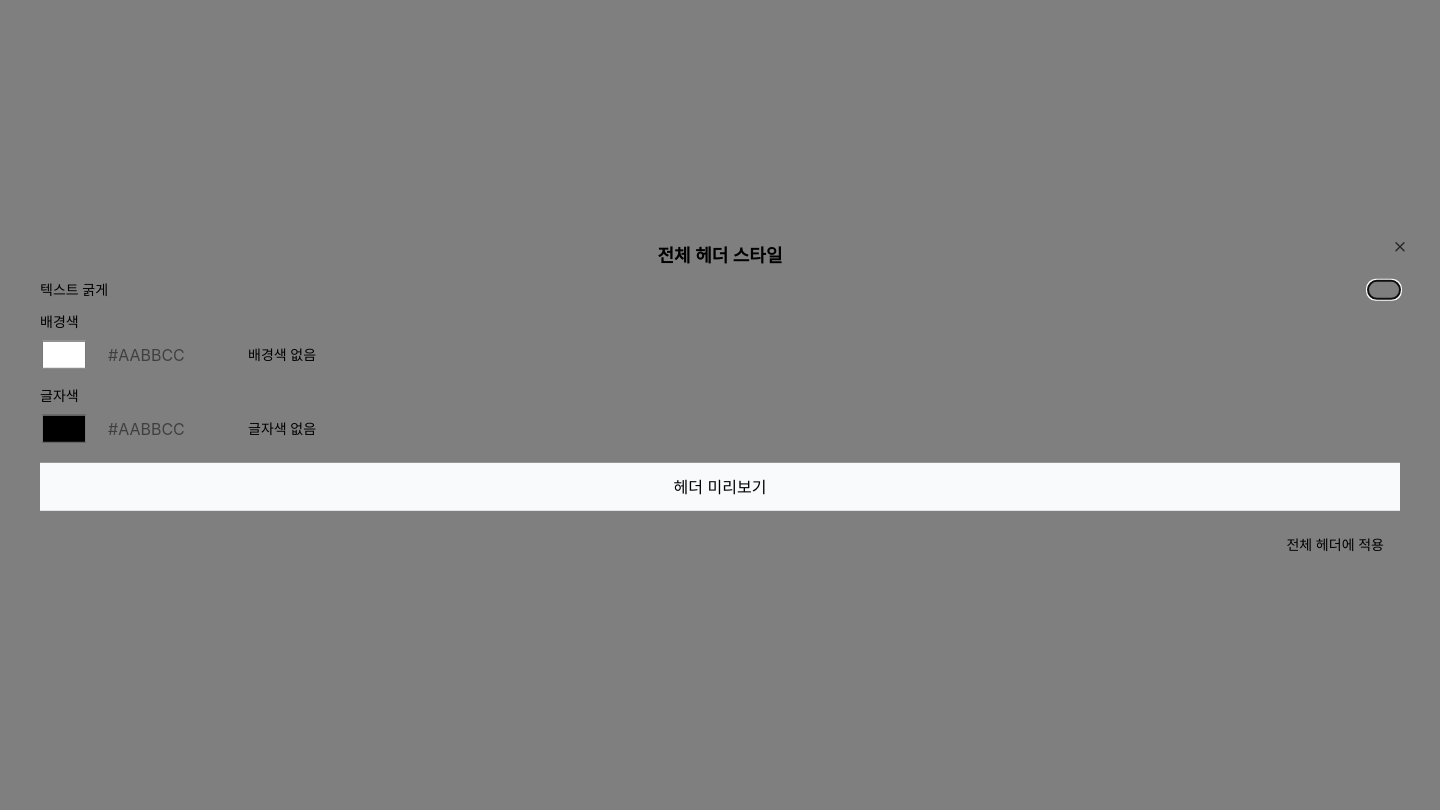
Scenario: HeaderBulkStyleDialog 확인 단계 › 확인에서 취소를 누르면 적용하지 않고 다시 적용 버튼으로 돌아간다
Click the button "전체 헤더에 적용". click: (1335, 545)
box: [1270,527,1400,563]
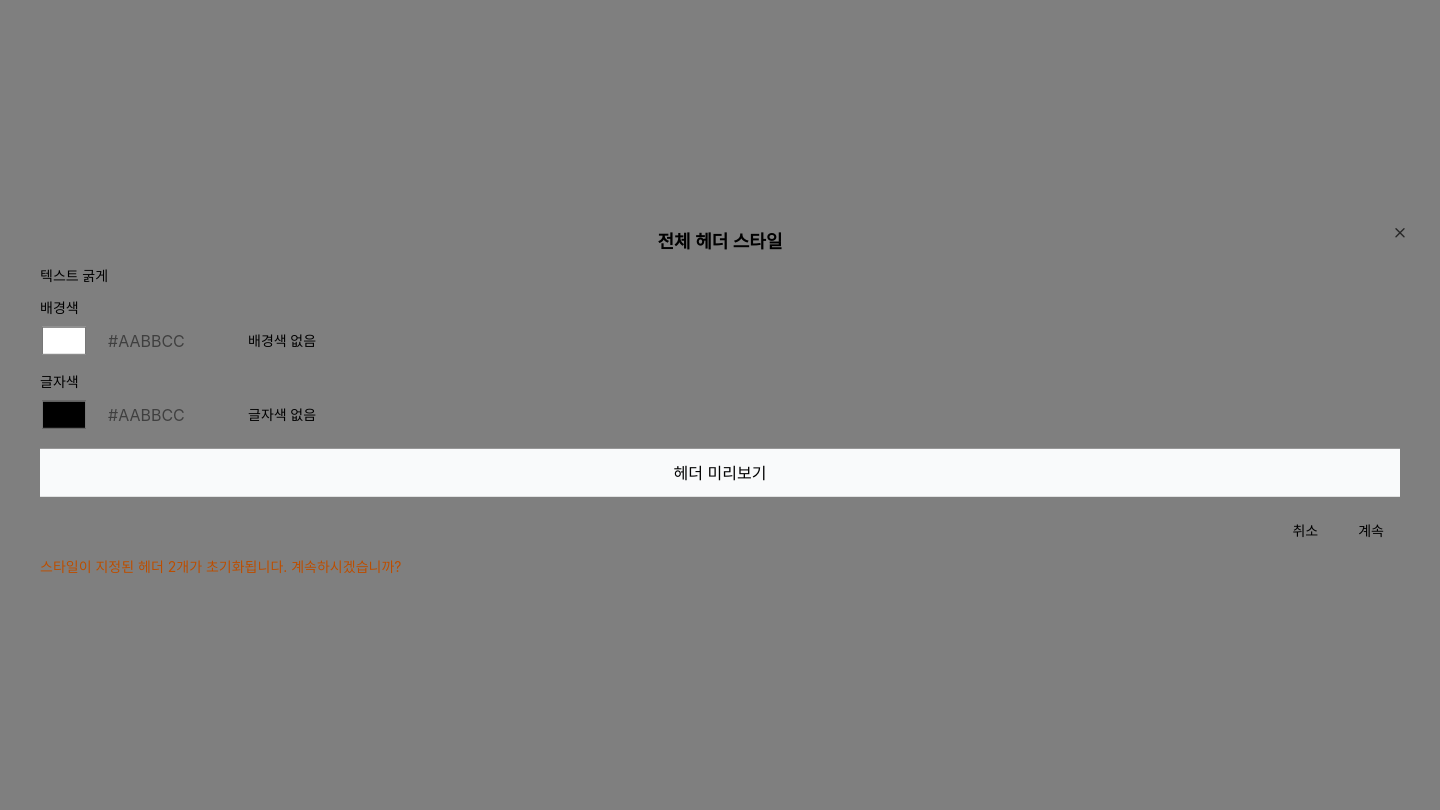
Click the button "취소". click: (1305, 531)
box: [1276,513,1334,549]
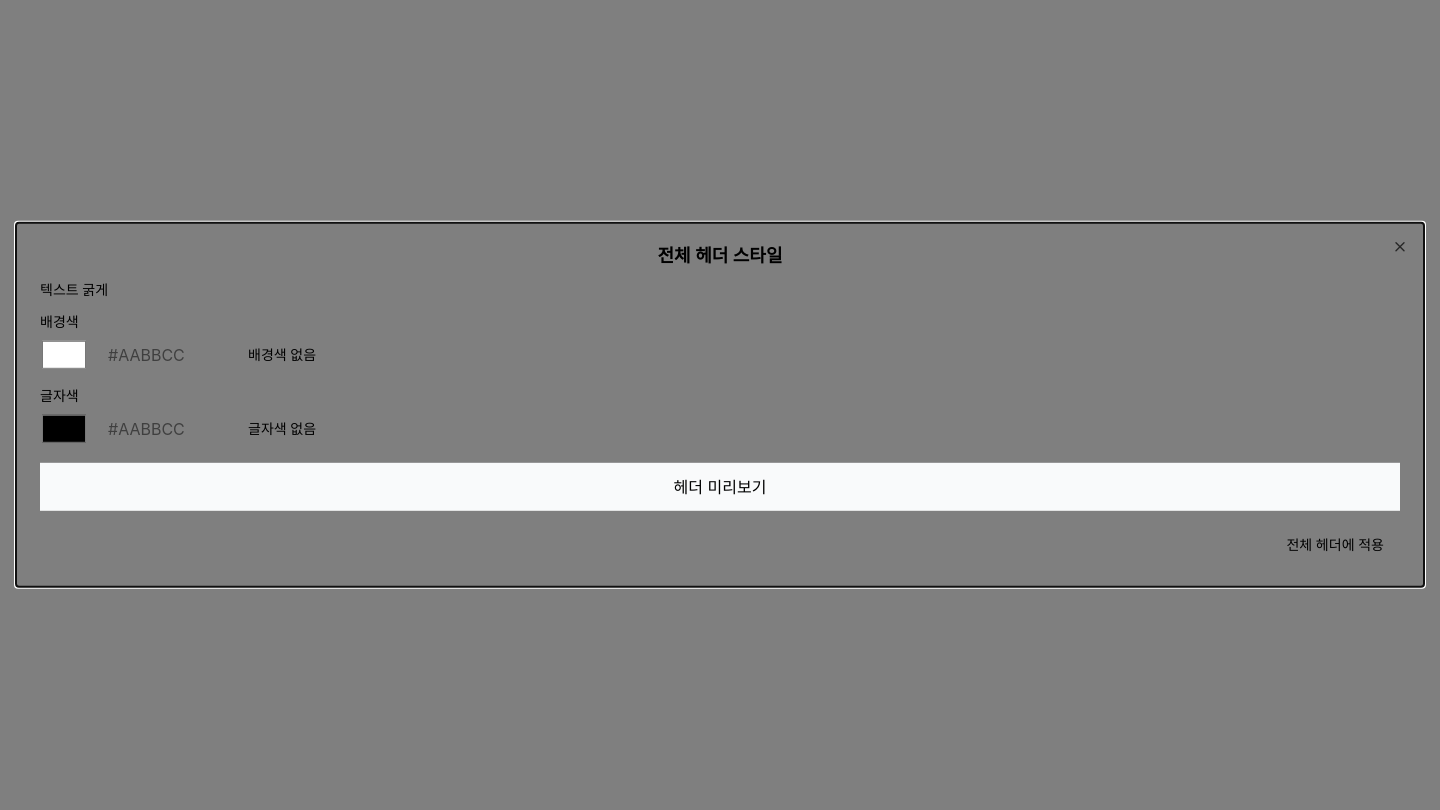
Result: the message "스타일이 지정된 헤더 2개가 초기화됩니다. 계속하시겠습니까?" is gone
Result: the button "전체 헤더에 적용" is shown at [1270,527,1400,563]
